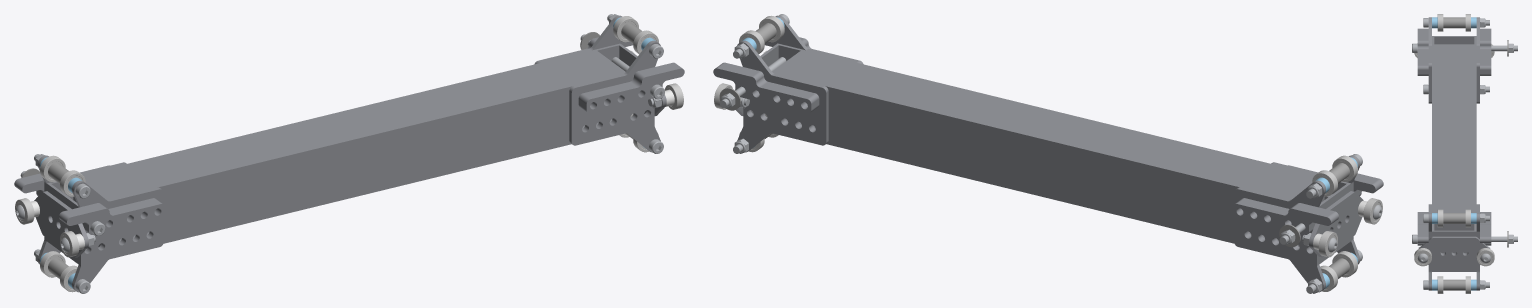
3 renders of one model, left to right at view 1: azimuth 30°, elevation 25°; view 2: azimuth 150°, elevation 25°; view 3: azimuth 270°, elevation 25°, orthographic. The views are drawn at different scales.
Visible parts, largest first — view 1: Part 3, Part 6 (×4), Part 27 (×3), Part 10, Part 5 (×2); view 2: Part 3, Part 6 (×4), Part 27 (×3), Part 10, Part 5 (×2); view 3: Part 3, Part 27 (×4), Part 10, Part 5 (×2), Part 6 (×4), Bearing 5x16x5 (×8), Part 2 (×3), 55mm M5 SHCS (×4), 90mm M5 SHCS (×2), 20mm M5 BHCS (×2).
Boxes of the visible parts, left/top/right/bottom form: Part 3: left=82, top=50, right=623, bottom=243; Part 6 (×4): left=37, top=15, right=660, bottom=292; Part 27 (×3): left=14, top=62, right=684, bottom=234; Part 10: left=34, top=191, right=88, bottom=257; Part 5 (×2): left=46, top=43, right=648, bottom=264; Part 3: left=774, top=50, right=1315, bottom=243; Part 6 (×4): left=737, top=15, right=1360, bottom=292; Part 27 (×3): left=713, top=62, right=1383, bottom=234; Part 10: left=1309, top=191, right=1363, bottom=257; Part 5 (×2): left=749, top=43, right=1351, bottom=263; Part 3: left=1432, top=45, right=1476, bottom=212; Part 27 (×4): left=1417, top=28, right=1491, bottom=245; Part 10: left=1419, top=236, right=1489, bottom=268; Part 5 (×2): left=1432, top=36, right=1476, bottom=271; Part 6 (×4): left=1428, top=17, right=1479, bottom=290; Bearing 5x16x5 (×8): left=1414, top=14, right=1494, bottom=293; Part 2 (×3): left=1443, top=17, right=1465, bottom=290; 55mm M5 SHCS (×4): left=1423, top=18, right=1489, bottom=289; 90mm M5 SHCS (×2): left=1412, top=43, right=1517, bottom=243; 20mm M5 BHCS (×2): left=1417, top=246, right=1490, bottom=263.
Size of the model in its own units: 0.4485 by 0.082 by 0.095.
